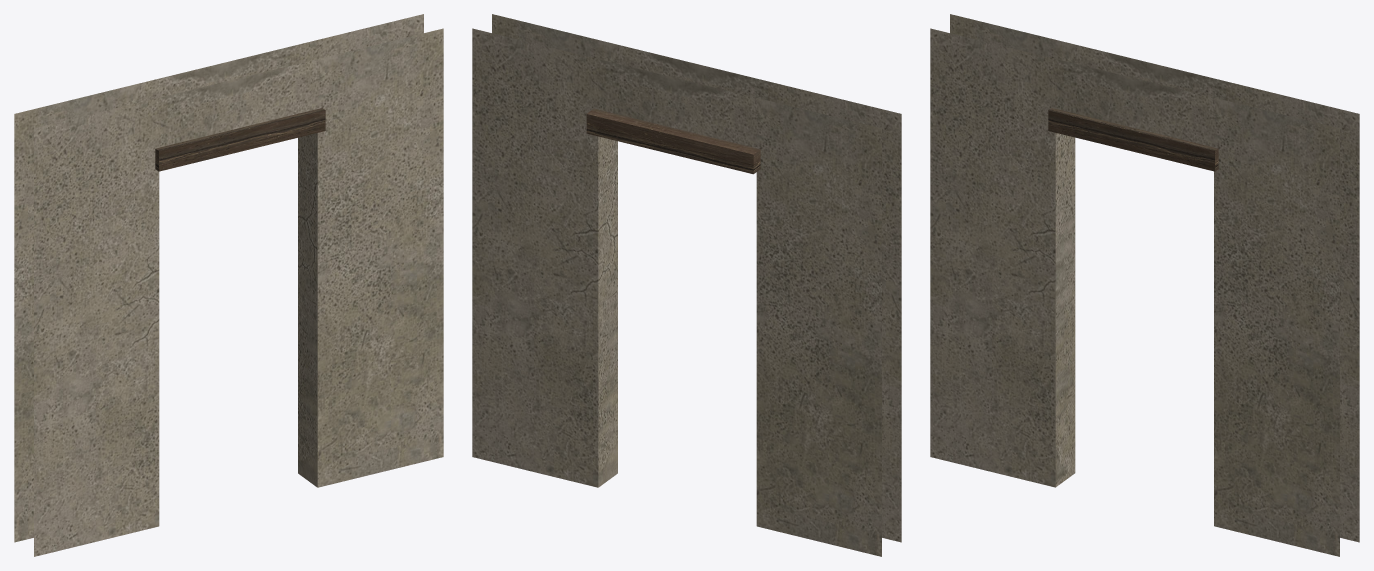
Rendered from ARC1010301.fbx.
The picture shows the model from 3 angles, left to right: view 1: azimuth 30°, elevation 25°; view 2: azimuth 150°, elevation 25°; view 3: azimuth 330°, elevation 25°; orthographic projection.
Visible parts, largest first — view 1: smARC1010301; view 2: smARC1010301; view 3: smARC1010301.
Part boxes in pixels (x1,y1,x2,y2): smARC1010301: (14, 14, 443, 556); smARC1010301: (472, 14, 901, 556); smARC1010301: (930, 14, 1359, 556).
Bounding box in the file's own units: 268 × 268 × 34.27.
1 material, 1 textured.
